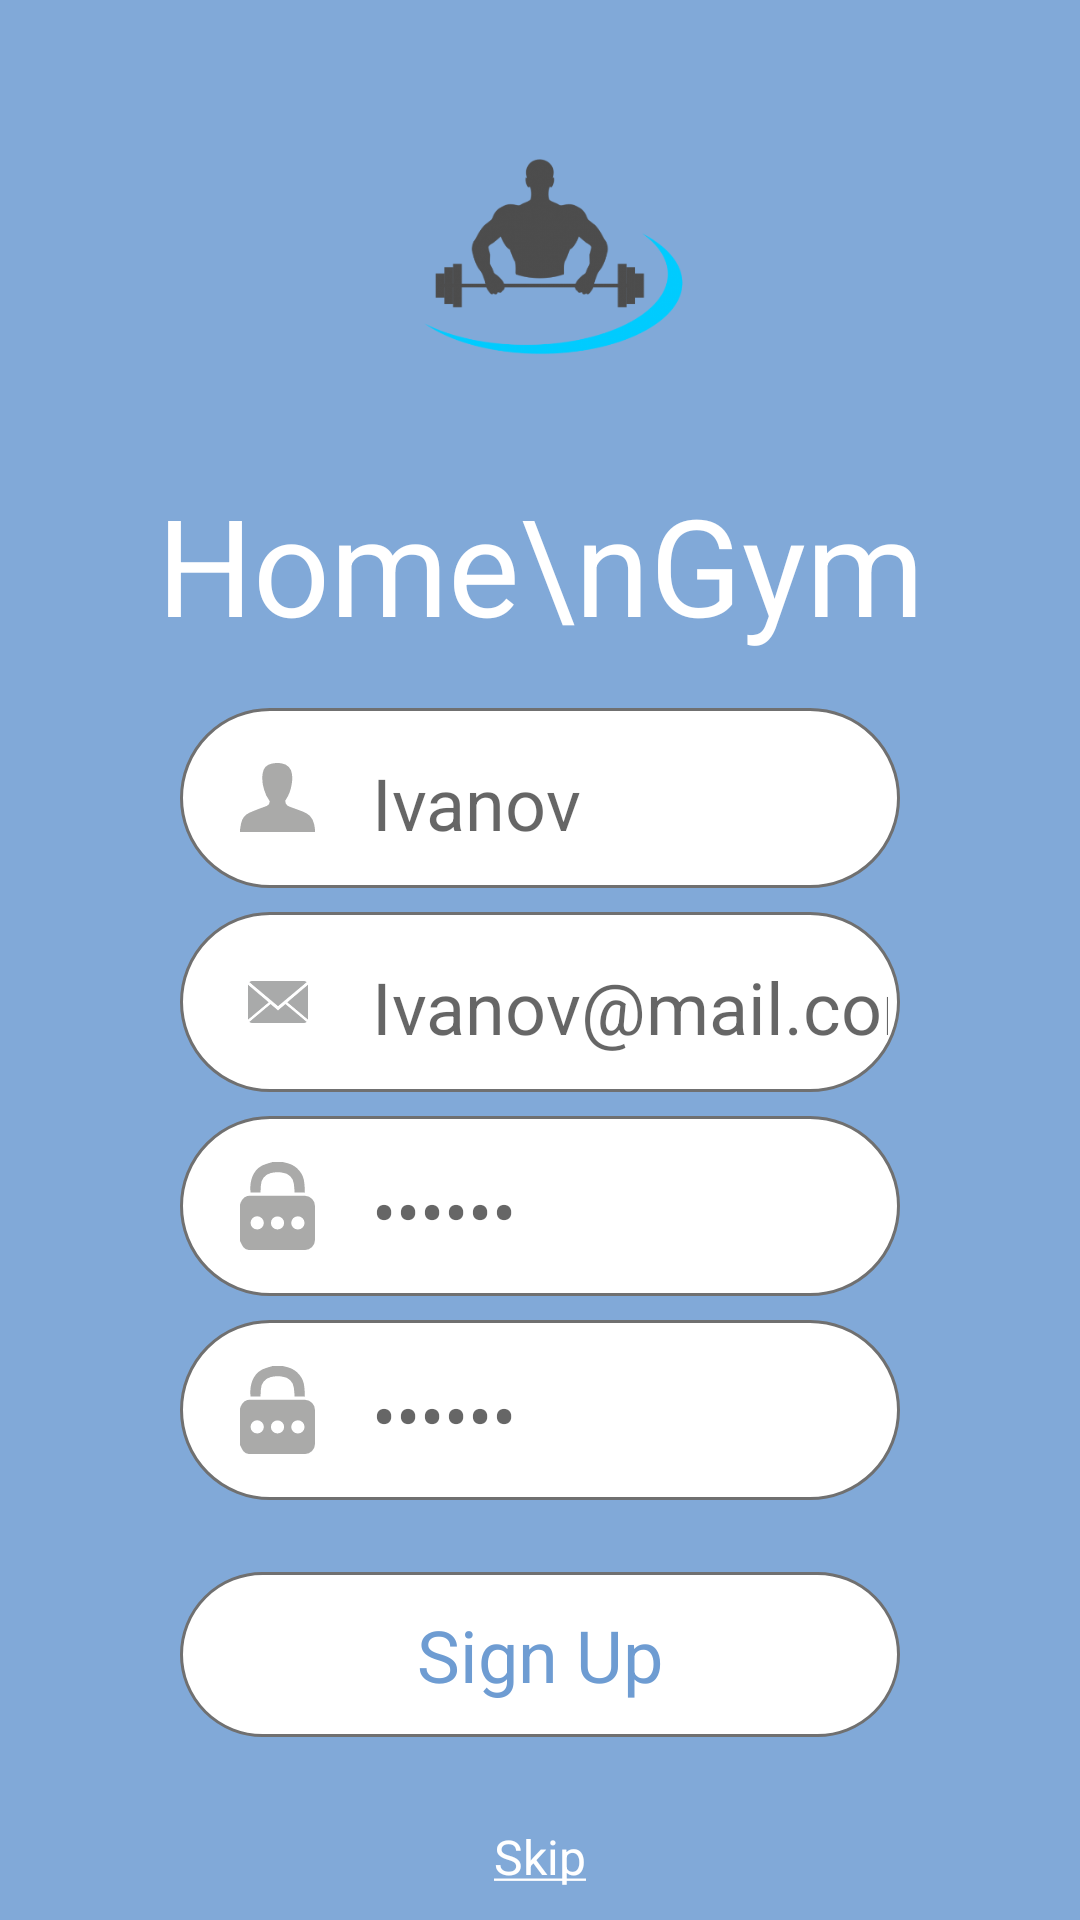

Icons on this 1080px x 1920px Android screen, each with its box as region(x1, y1, x2, y2):
Image of a closed lock: region(240, 1162, 315, 1250), region(240, 1366, 315, 1454)
profile: region(240, 763, 315, 832)
